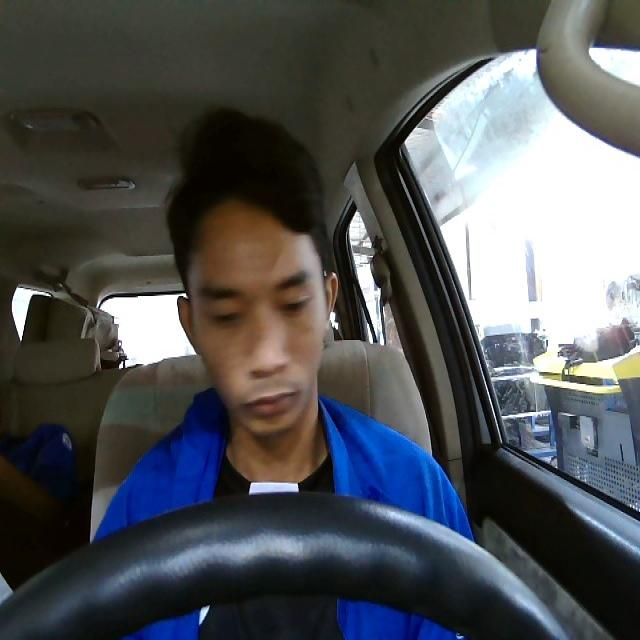seeing_right: (178, 196, 340, 439)
